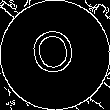O_S: (28, 25, 82, 85)
